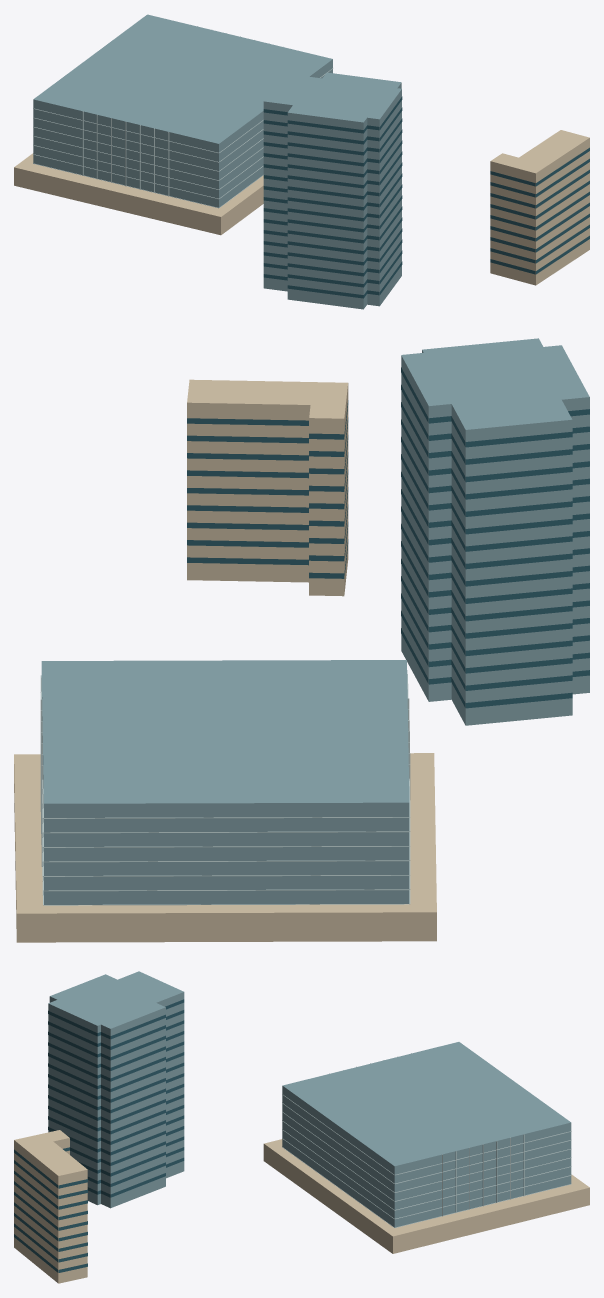
File: city_0_0.glb
3 renders of one model, top to bottom at view 1: azimuth 30°, elevation 25°; view 2: azimuth 150°, elevation 25°; view 3: azimuth 270°, elevation 25°, orthographic. The views are drawn at different scales.
Parts seen in each view (by area): view 1: city_0_0; view 2: city_0_0; view 3: city_0_0.
Boxes of the visible parts, x1,y1,x2,y2 form: city_0_0: (14, 14, 589, 309); city_0_0: (14, 338, 589, 942); city_0_0: (14, 971, 589, 1283).
Bounding box in the file's own units: 139 × 68 × 198.
